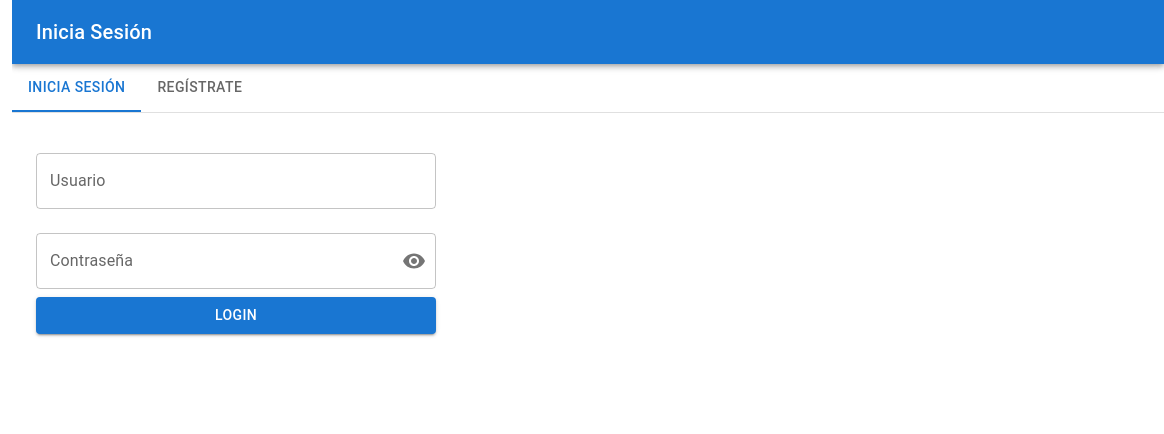
it: Login component › switches to signup tab and shows signup fields
What coordinates should you click on to do the following:
click the tab "Regístrate"
I would click on:
 (200, 88)
Its box is x1=142 y1=64 x2=258 y2=112.
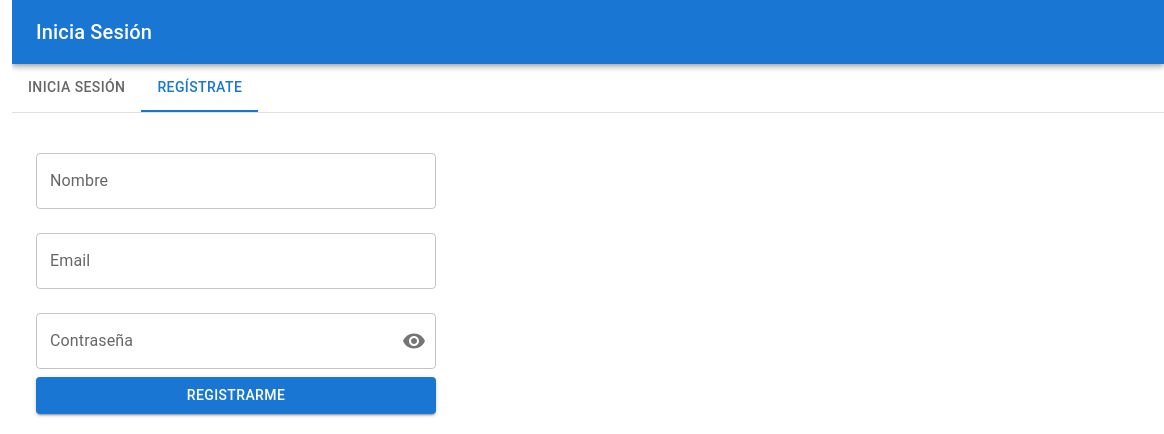
Result: the field labelled "Nombre" is shown at x1=36 y1=153 x2=436 y2=209
Result: the field labelled "Email" is shown at x1=36 y1=233 x2=436 y2=289
Result: the button "Registrarme" is shown at x1=36 y1=377 x2=436 y2=414
